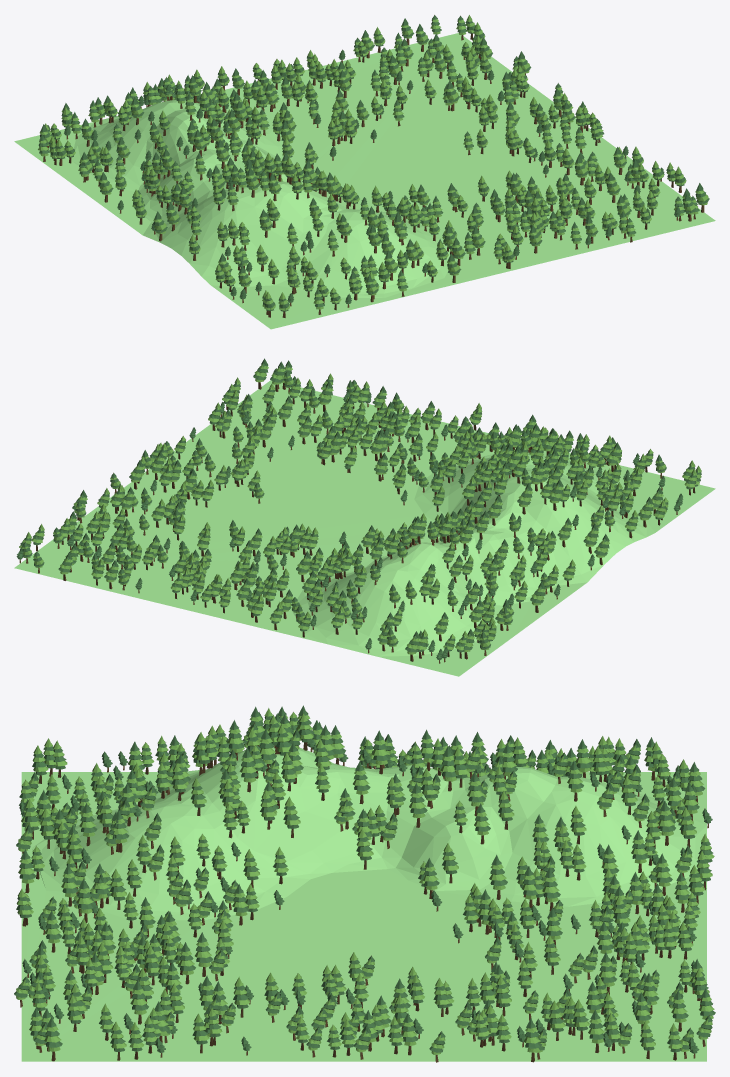
File: LevelTerrain2.fbx
3 renders of one model, top to bottom at view 1: azimuth 30°, elevation 25°; view 2: azimuth 150°, elevation 25°; view 3: azimuth 270°, elevation 25°, orthographic. The views are drawn at different scales.
Visible parts, largest first — view 1: TerrainL2; view 2: TerrainL2; view 3: TerrainL2.
Boxes of the visible parts, x1,y1,x2,y2 form: TerrainL2: (14, 15, 715, 329); TerrainL2: (14, 358, 715, 676); TerrainL2: (14, 705, 715, 1062).
Bounding box in the file's own units: 10432 × 1854 × 10414.
